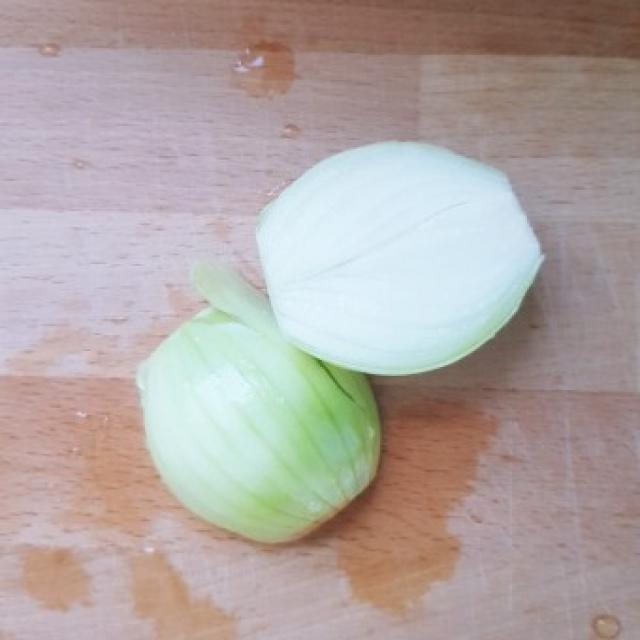onion: (100, 288, 406, 547), (250, 137, 566, 372)
